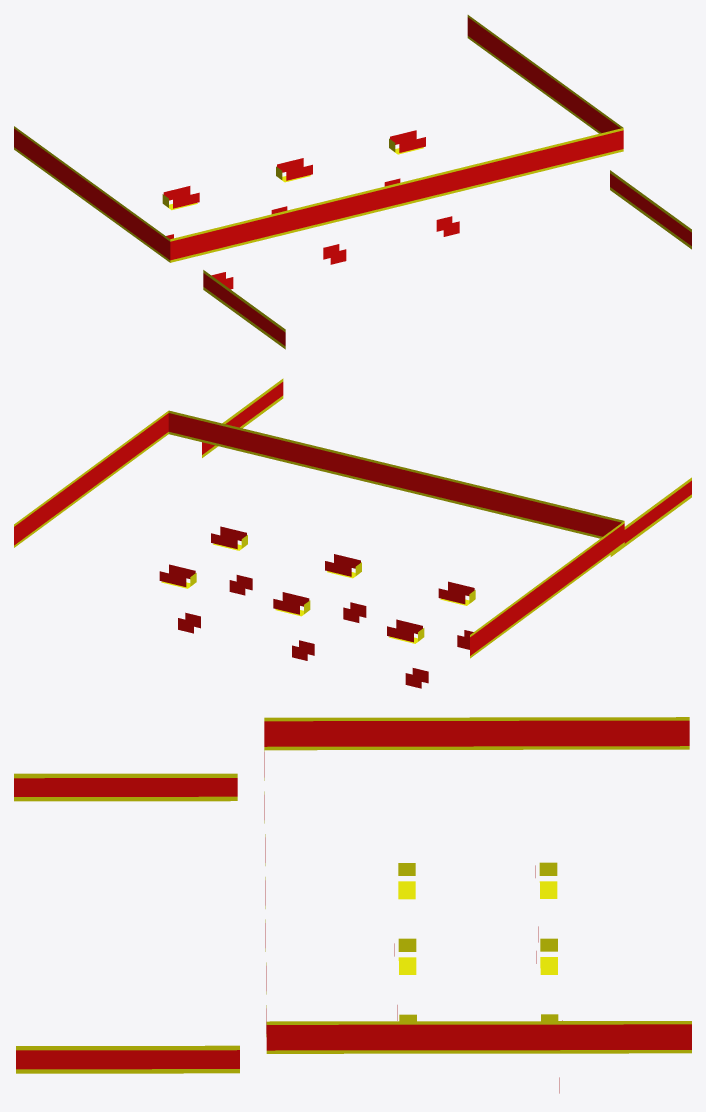
The model's file is light.008.fbx.
3 renders of one model, top to bottom at view 1: azimuth 30°, elevation 25°; view 2: azimuth 150°, elevation 25°; view 3: azimuth 270°, elevation 25°, orthographic. The views are drawn at different scales.
Visible parts, largest first — view 1: light.008; view 2: light.008; view 3: light.008.
Part boxes in pixels (x1=…): light.008: x1=14, y1=15, x2=691, y2=349; light.008: x1=14, y1=378, x2=691, y2=688; light.008: x1=14, y1=717, x2=691, y2=1093.
Size of the model in its own units: 2177 by 2312 by 545.
